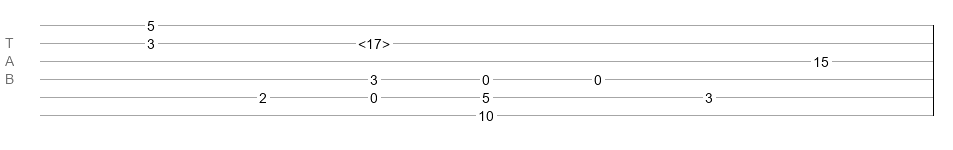0: (370, 90, 378, 100), (482, 72, 490, 82), (594, 72, 602, 82)
10: (478, 108, 494, 118)
15: (813, 54, 829, 64)
2: (259, 90, 267, 100)
3: (147, 36, 155, 46), (370, 72, 378, 82), (705, 90, 713, 100)
5: (147, 18, 155, 28), (482, 90, 490, 100)
harmonic: (358, 36, 390, 46)
